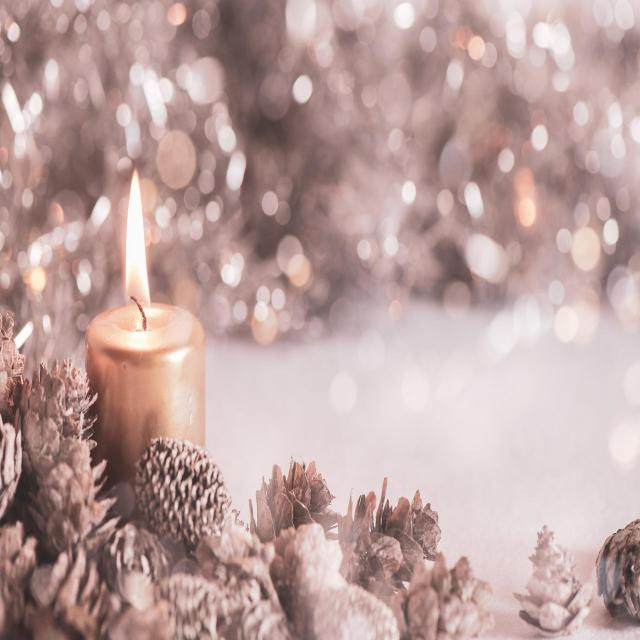Fire_Save: (84, 167, 206, 482)
